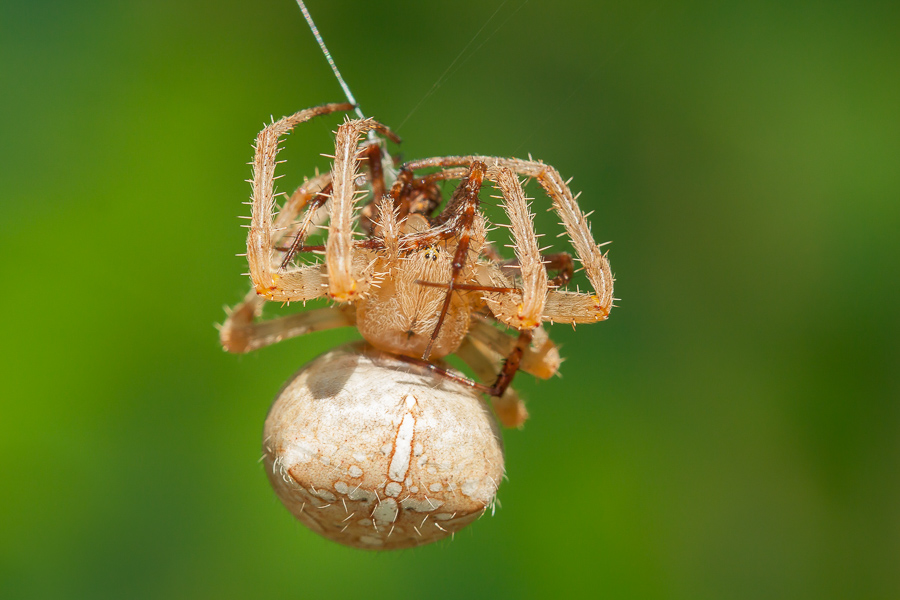spider: (201, 65, 614, 571)
